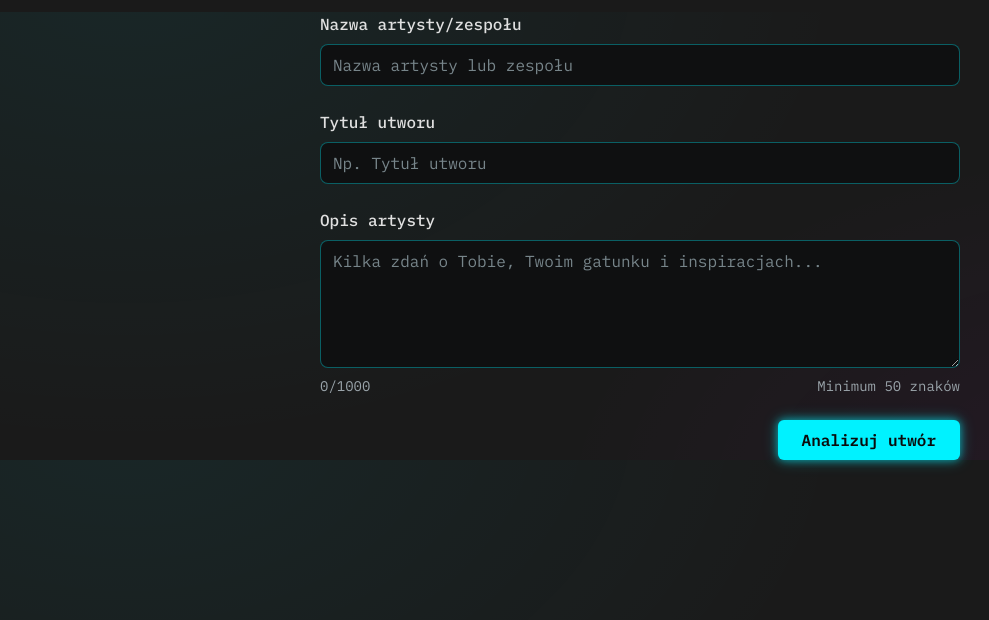
Test: ArtistForm – additional high-priority cases › shows errors and does not submit when form is empty (TC1.1)
Click the button "Analizuj utwór". click: x=869, y=440
box: [778,420,960,460]
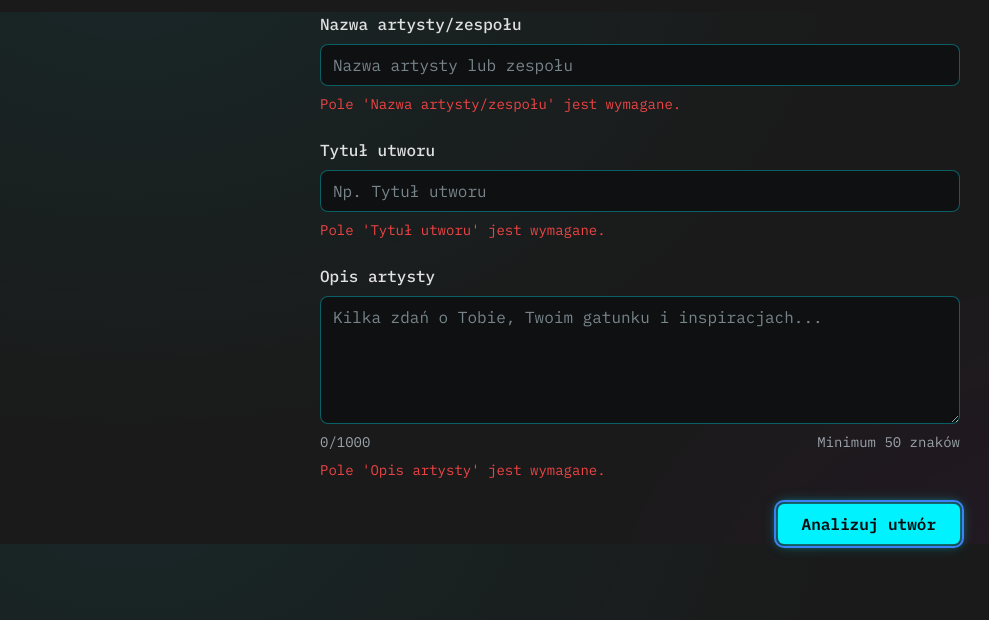
Check: the text "Pole 'Nazwa artysty/zespołu' jest wymagane." is shown, box [320,95,681,113]
Check: the text "Pole 'Tytuł utworu' jest wymagane." is shown, box [320,221,606,239]
Check: the text "Pole 'Opis artysty' jest wymagane." is shown, box [320,461,606,479]
